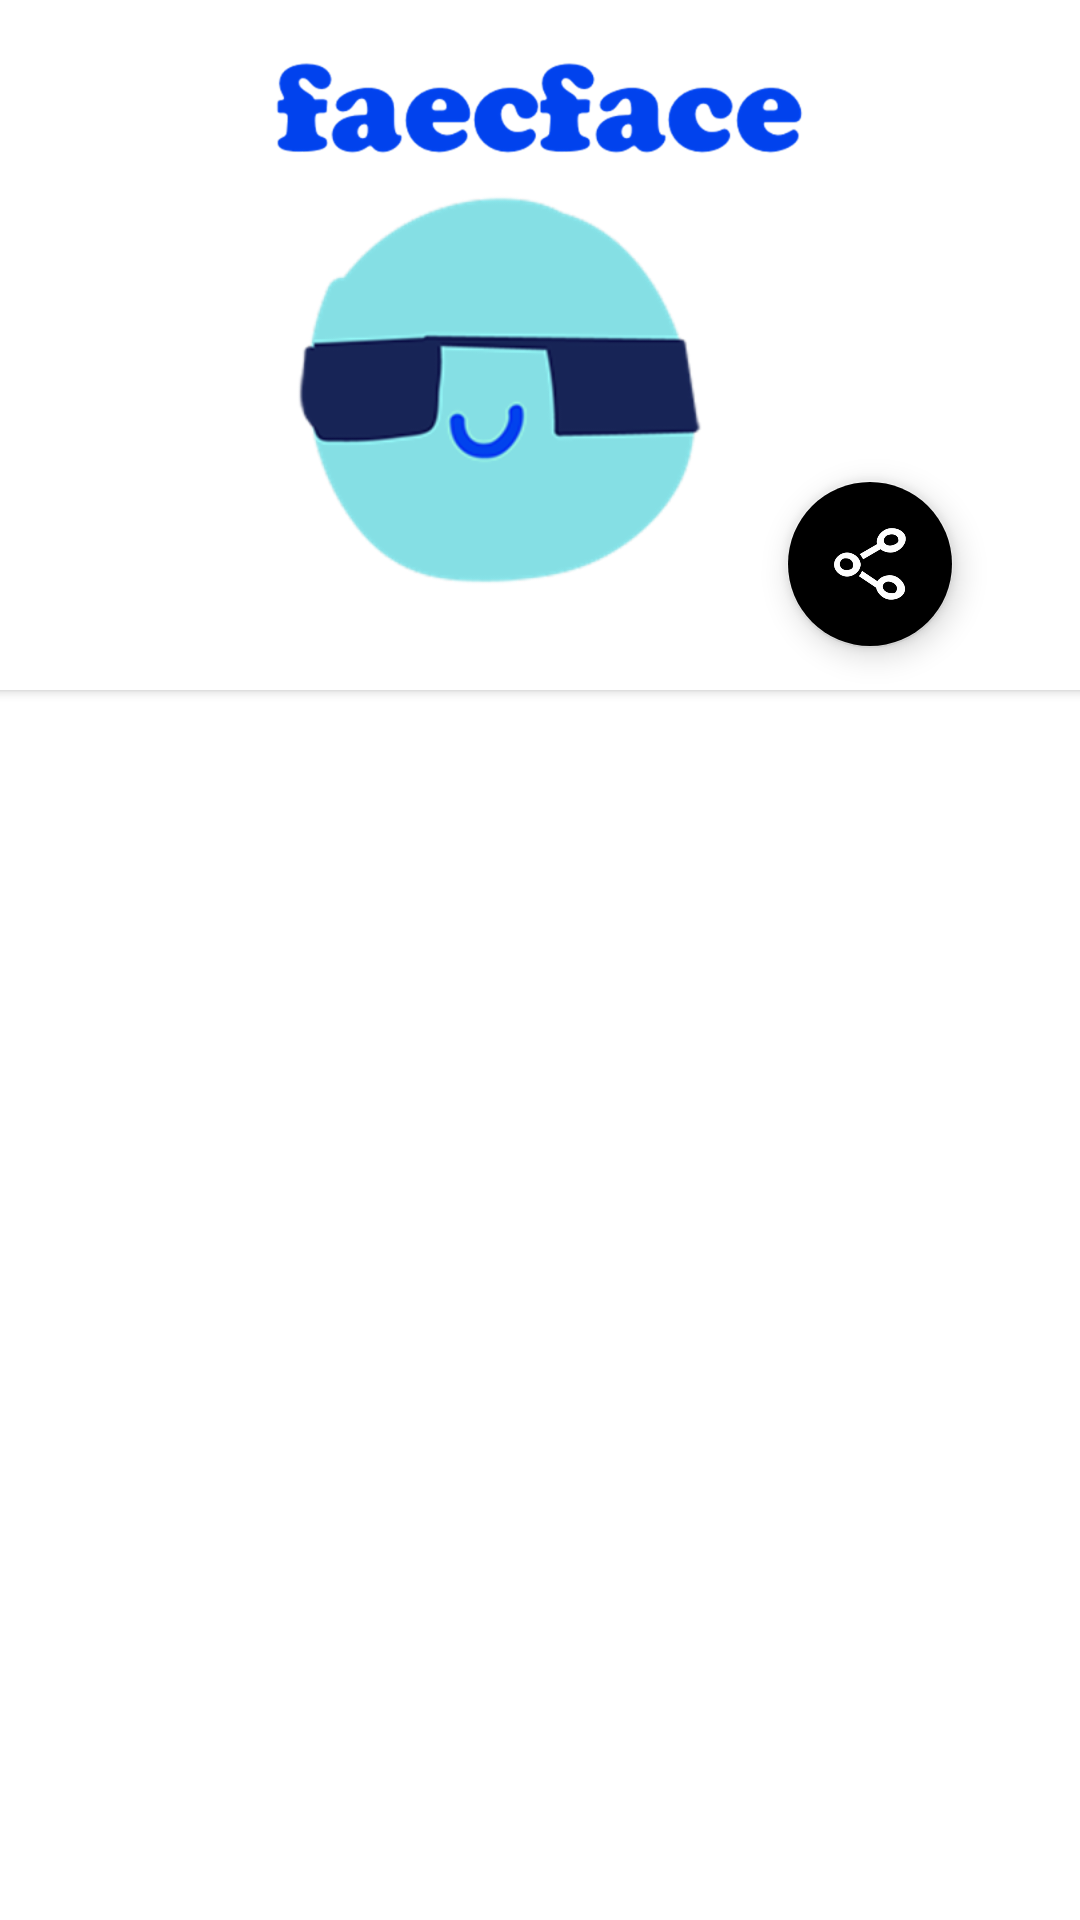

Where icons sit on this 1080w x 1920h app screen, as (x1, y1, x2, y2):
sharefab: (788, 482, 954, 648)
